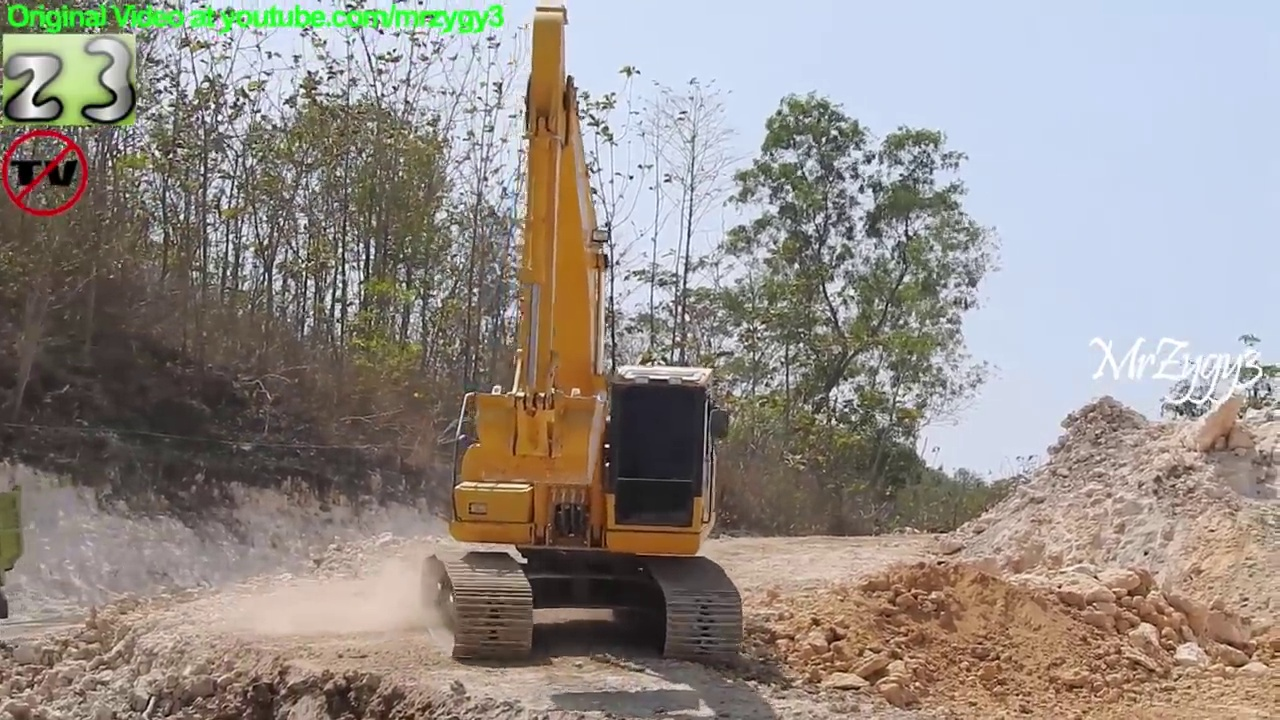excavator: (415, 1, 751, 679)
